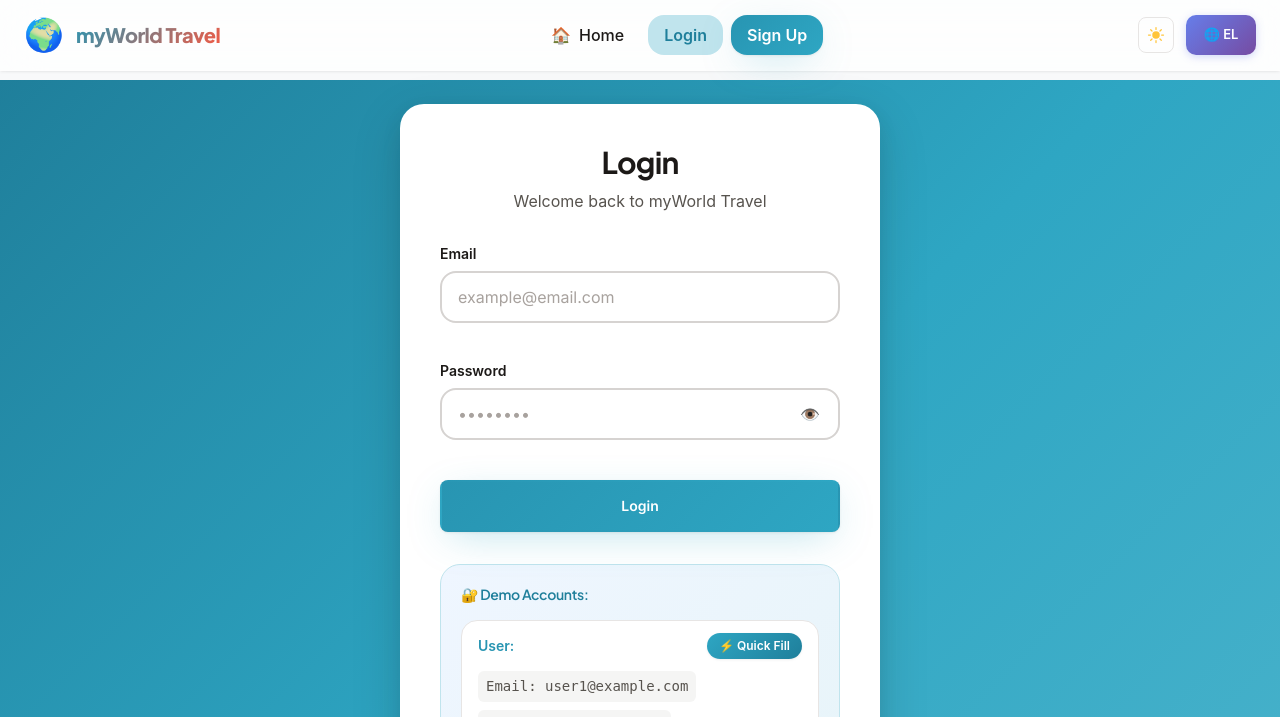
Authentication Validation Errors › Login Authentication Errors › should show auth error for incorrect credentials
This screenshot has width=1280, height=717.
Type "wrong@email.com" into the field with test id "input-email" at (640, 297), box [440,271,840,323]
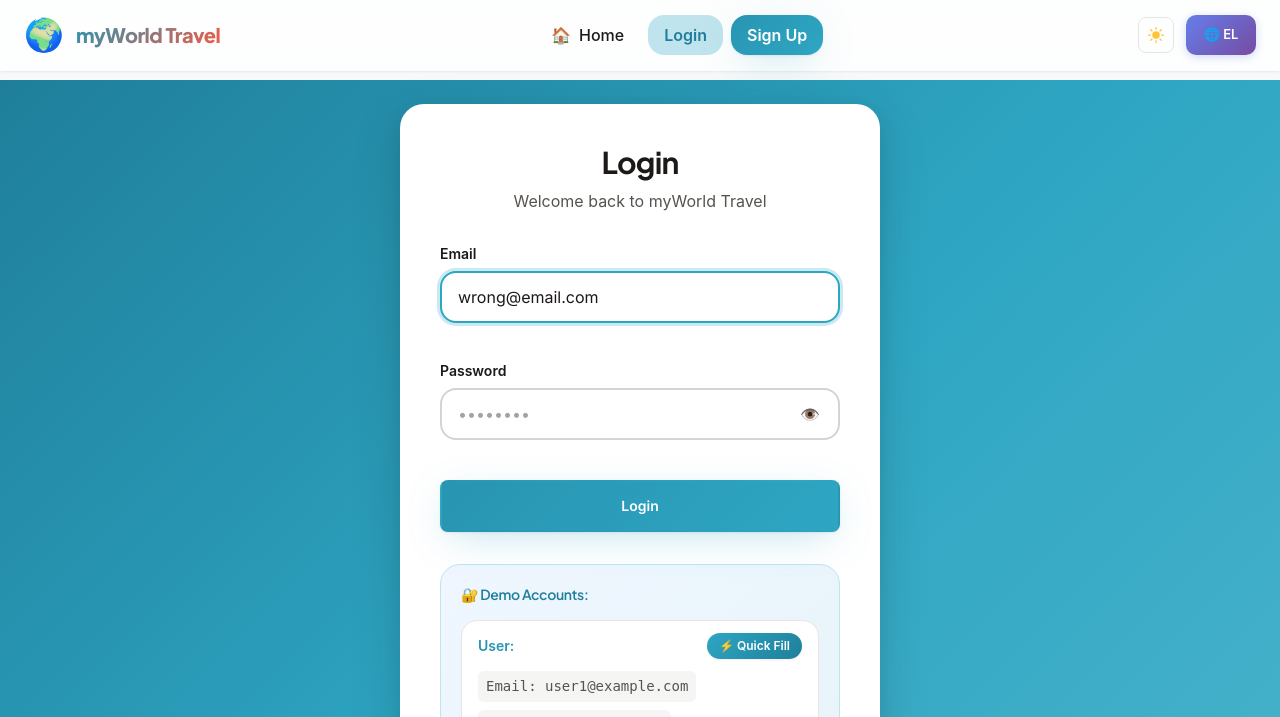
Type "wrongpassword" into the password field with test id "input-password" at (640, 414), box [440,388,840,440]
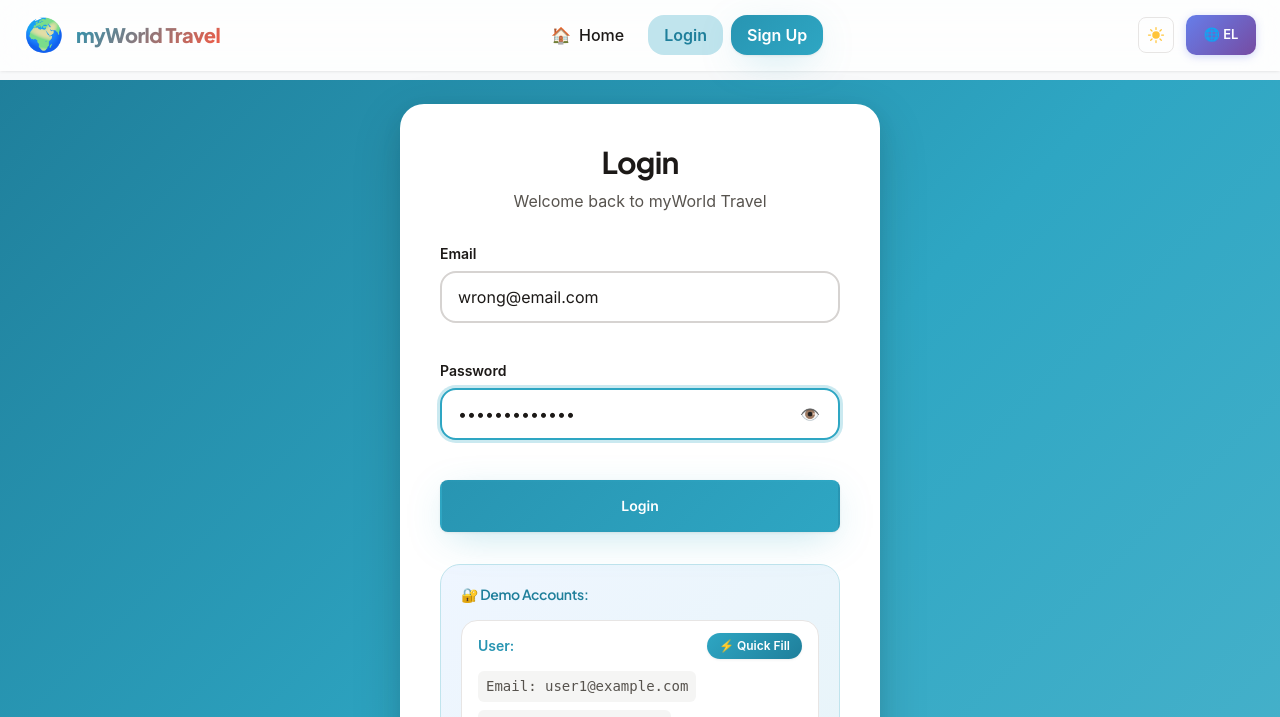
Click the button with test id "btn-submit" at (640, 506), box [440,480,840,532]
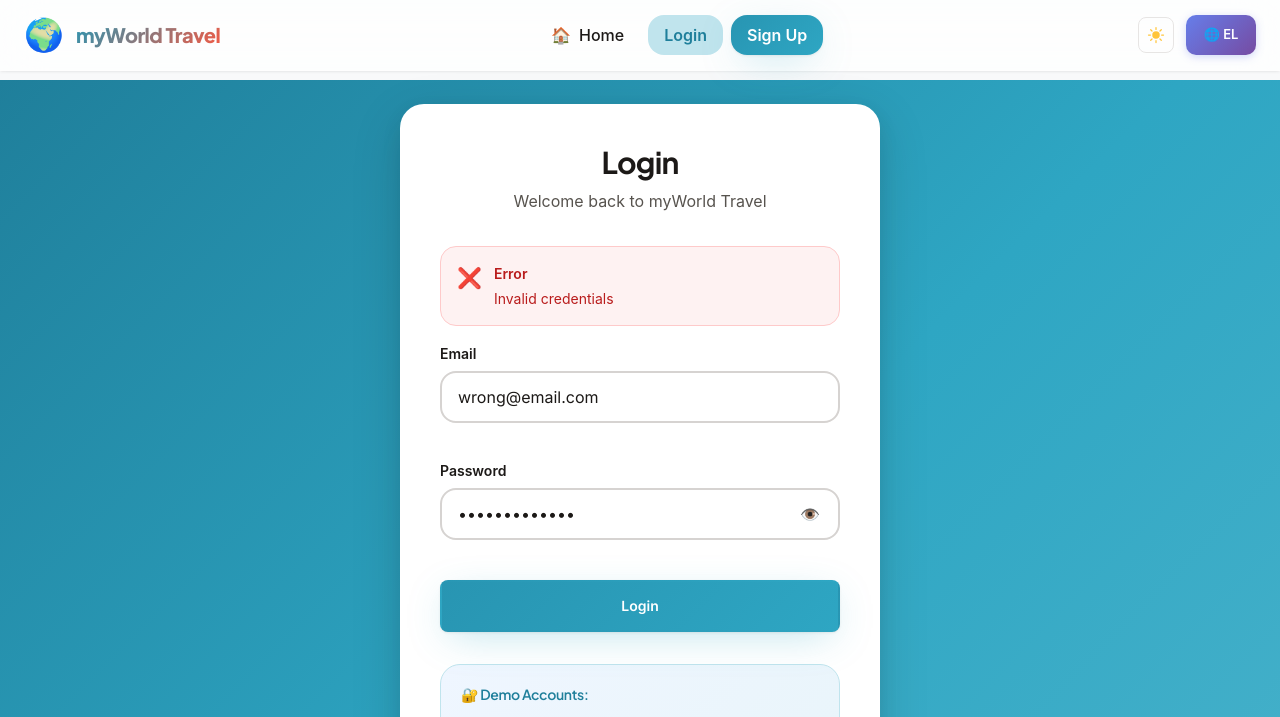
Expected: the message "❌ Error Invalid credentials" is shown, [440,246,840,326]
